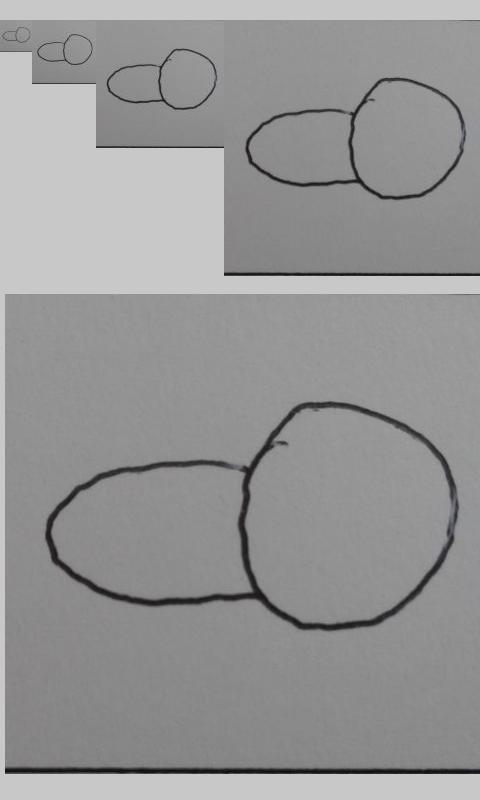switch: (44, 400, 461, 633), (244, 77, 467, 201), (106, 48, 218, 111), (36, 33, 93, 66), (1, 26, 32, 44)
